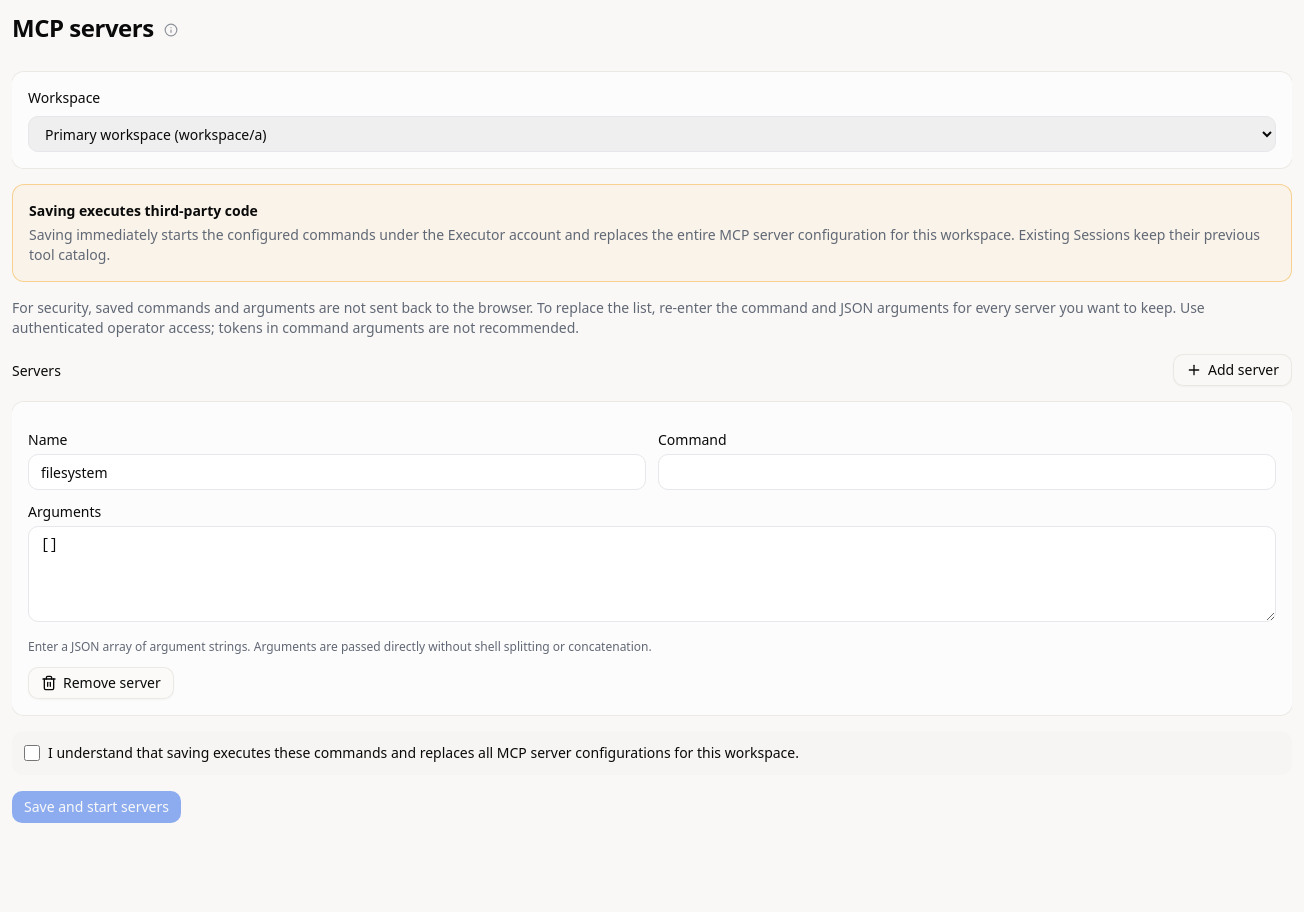
Test: McpSection › removes the editor when a save is rejected for missing authentication
Expected: the field showing "filesystem" is shown, x1=28 y1=454 x2=646 y2=490
Type "node" into the field named "Server 1 command" at (967, 472), box x1=658 y1=454 x2=1276 y2=490
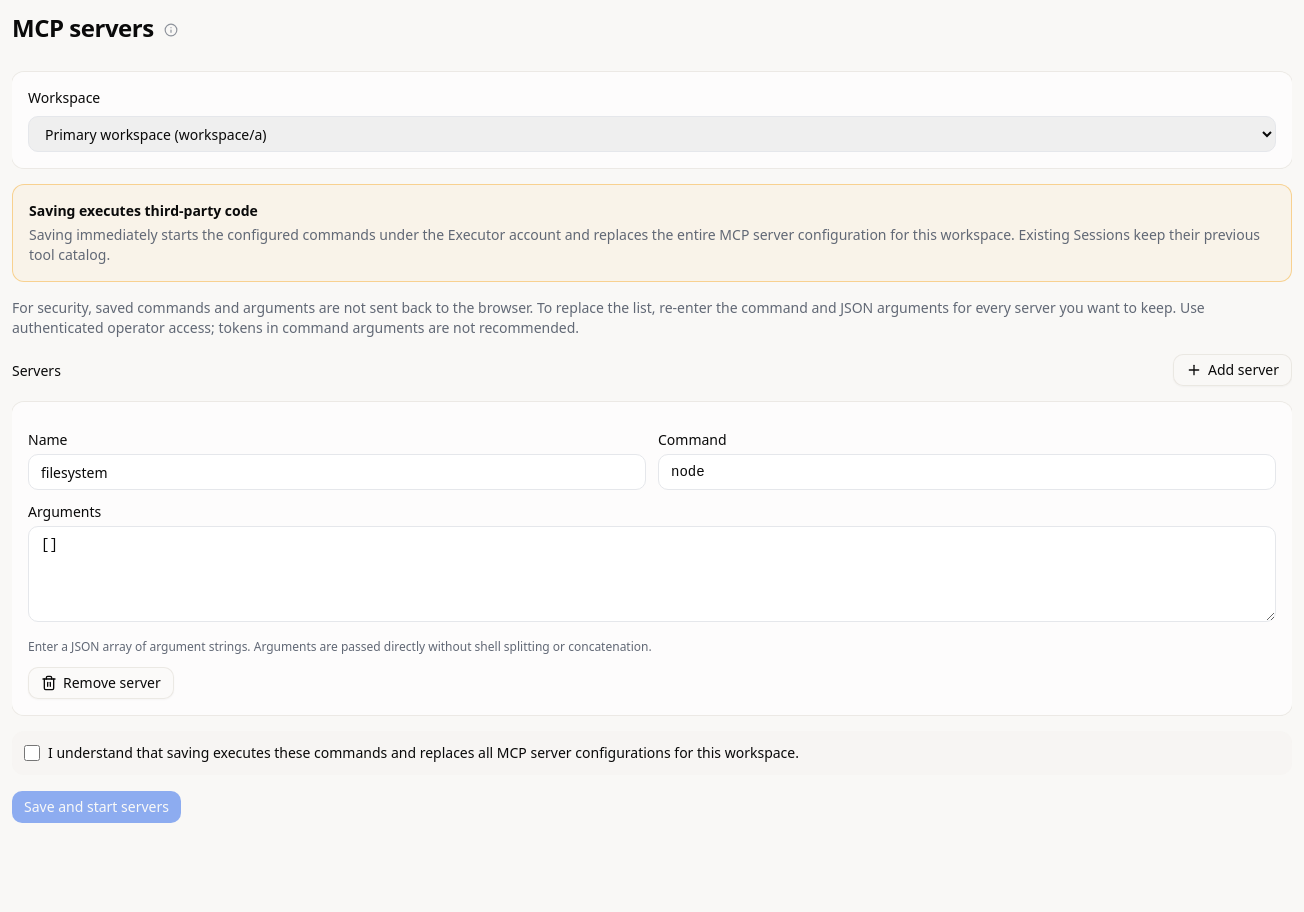
Click the checkbox labelled "I understand that saving executes these commands" at (32, 753), box x1=24 y1=745 x2=40 y2=761
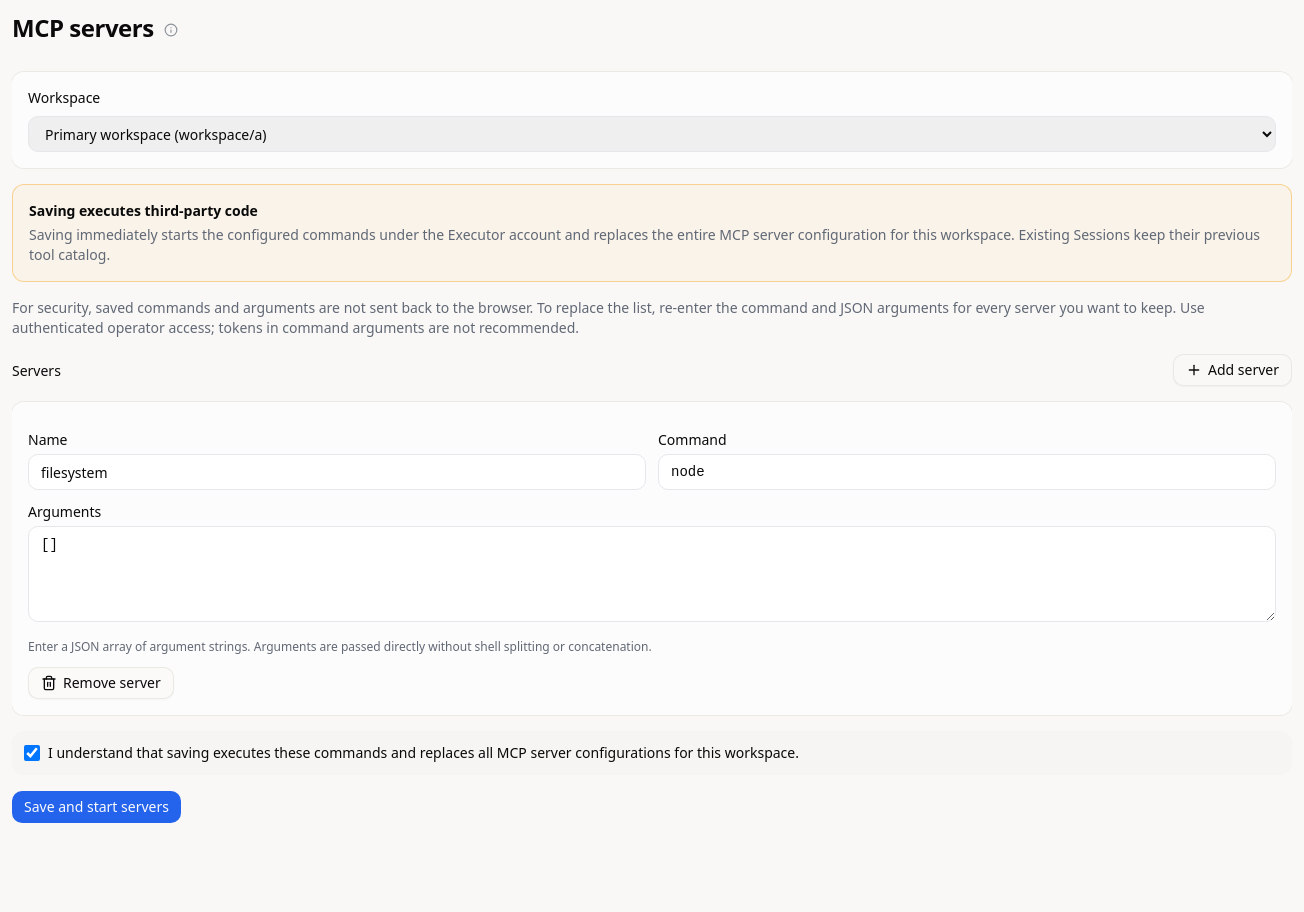
Click the button with test id "settings-mcp-save" at (96, 807), box x1=12 y1=791 x2=181 y2=823
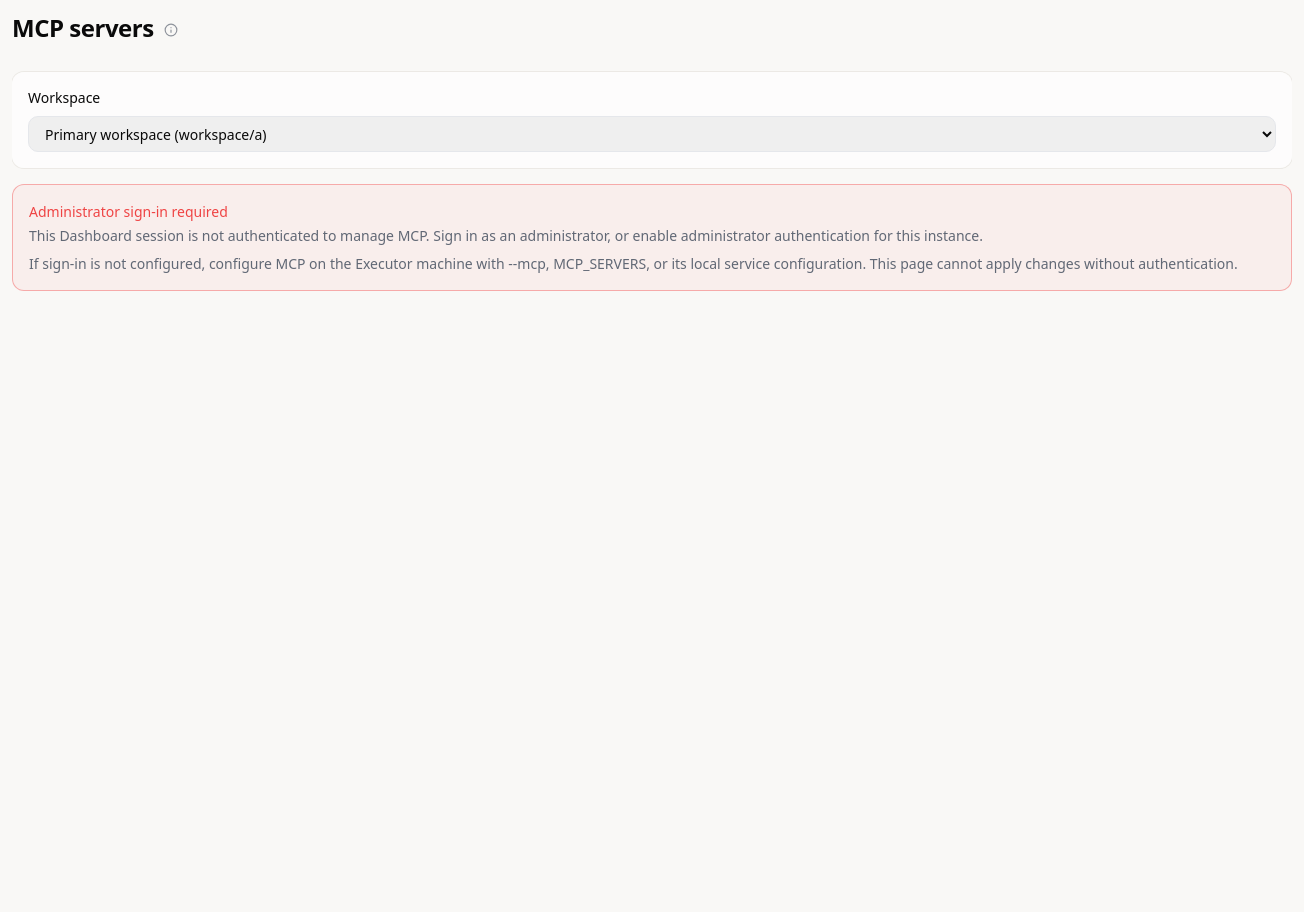
Now the text "Administrator sign-in required" is shown, box x1=29 y1=202 x2=228 y2=221
Now the text "configure MCP on the Executor machine" is shown, box x1=29 y1=254 x2=1238 y2=273
Now the button with test id "settings-mcp-save" is gone
